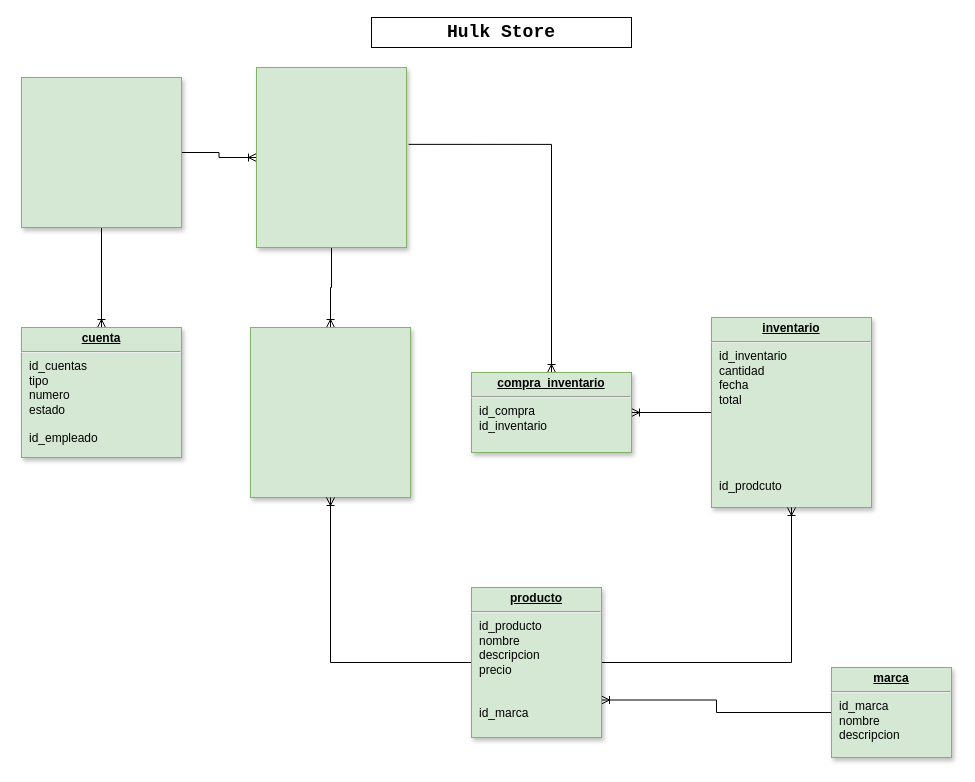
The diagram is 975 pixels wide and 782 high, and some of its shapes have lost their labels. Each missing label, with the centre of its shape:
"compra id_compra fecha subtota iva total id_empleado" goes at pixel 332 158.
"detalle_compra id_detalle_compra cantidad sub total total id_producto id_compra" goes at pixel 331 413.
"empleado id_empleado nombre apellido cedula direccion telefono email" goes at pixel 102 153.
